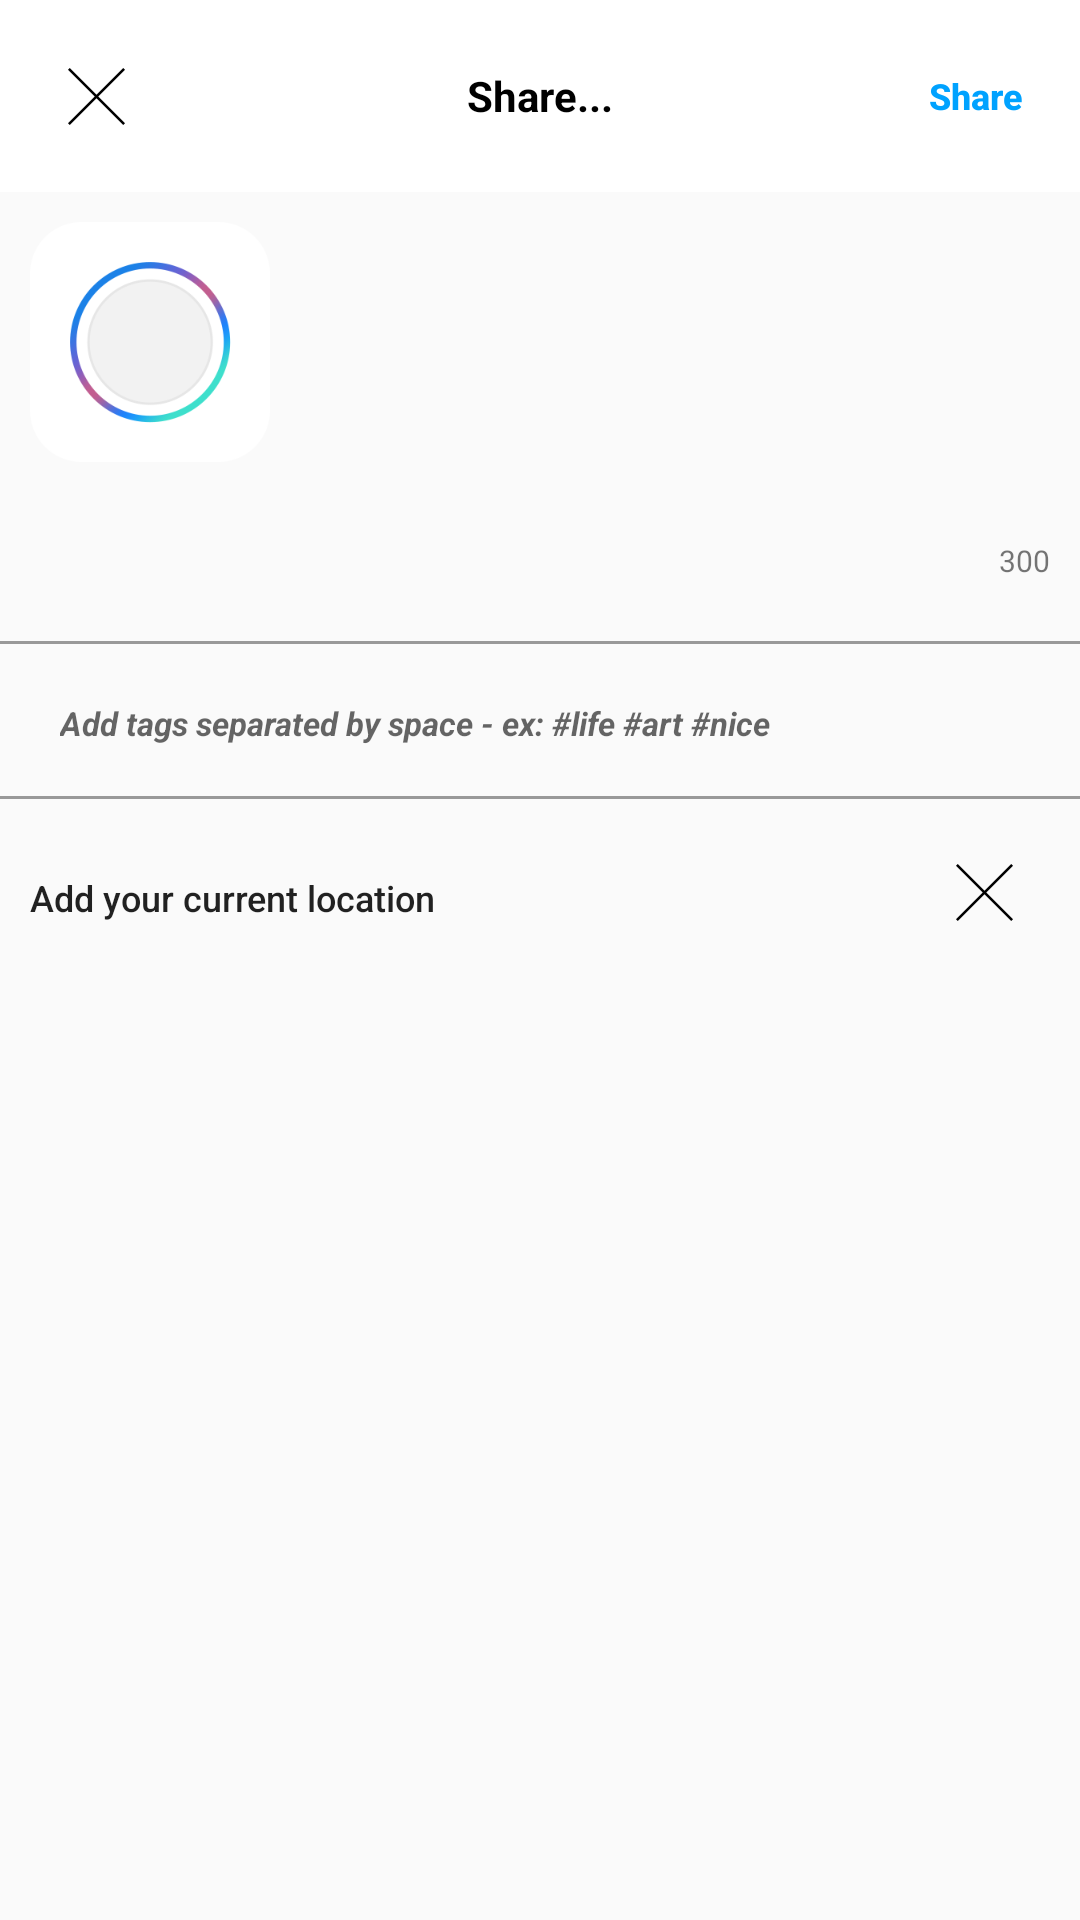

Icons on this 1080x1920 Android screen, each with the point to tap as [x,y]:
dismiss butt: [96,96], [984,892]
